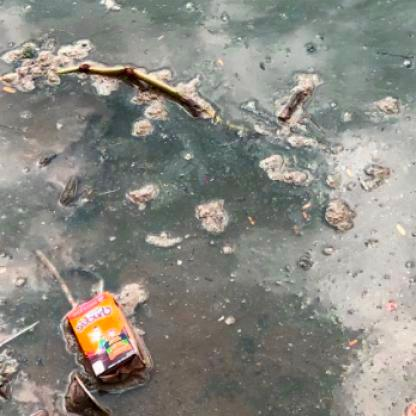Trash: (67, 288, 148, 388)
